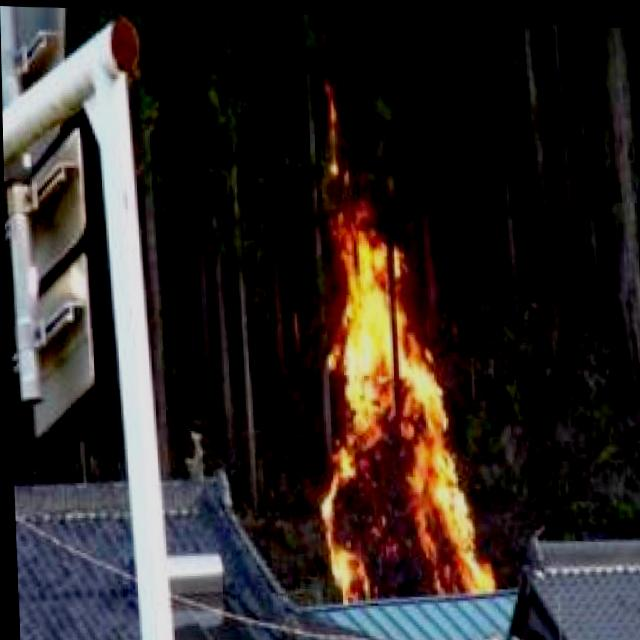helmet: (305, 213, 483, 599)
